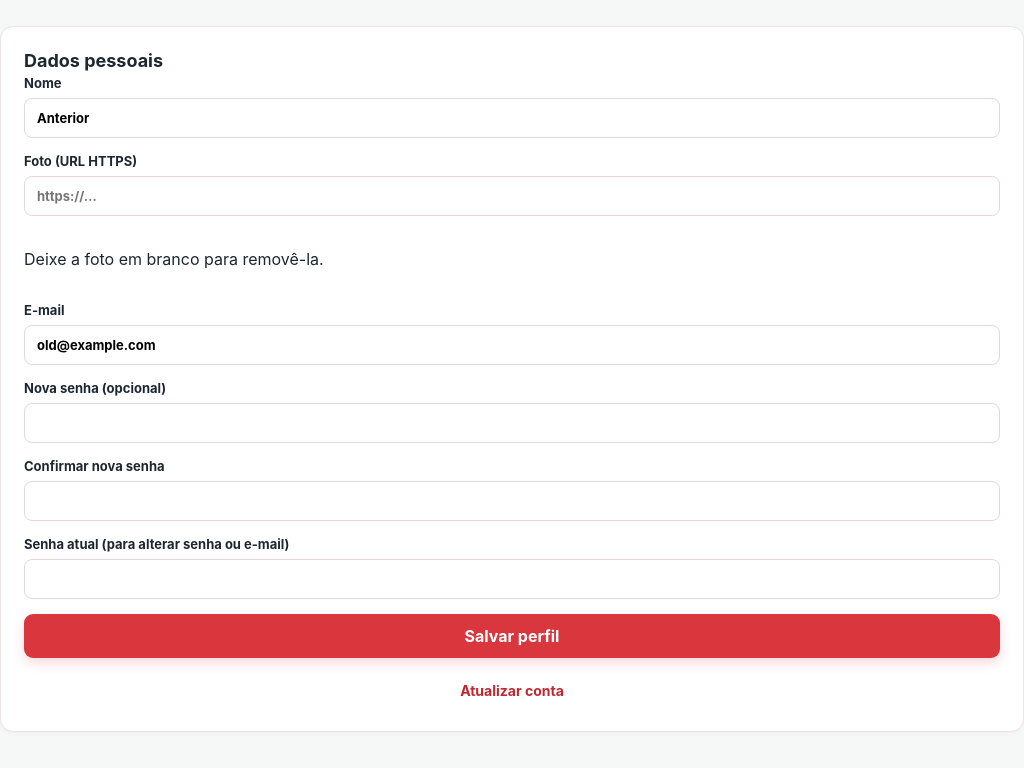
troca o e-mail através de confirmação e reautenticação sem salvar o endereço pendente no banco
Replace the text in the field labelled "E-mail" with "new@example.com" at (512, 345), box [24,325,1000,365]
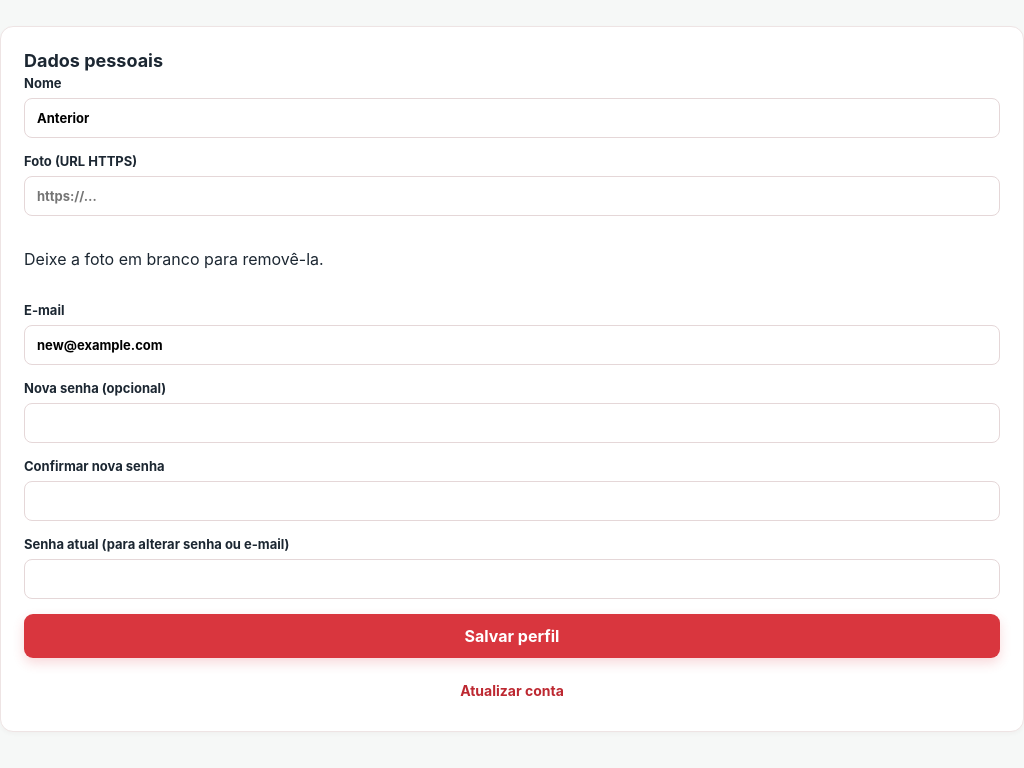
Type "password123" into the password field labelled "Senha atual (para alterar senha ou e-mail)" at (512, 579), box [24,559,1000,599]
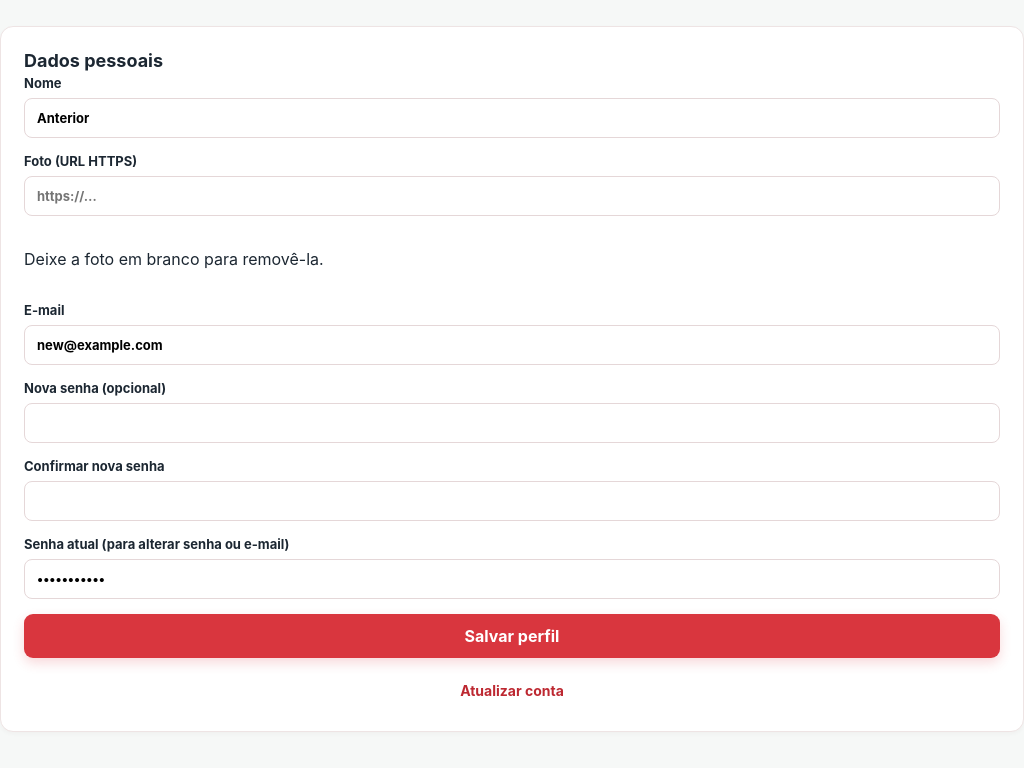
Click the button "Salvar perfil" at (512, 636), box [24,614,1000,658]
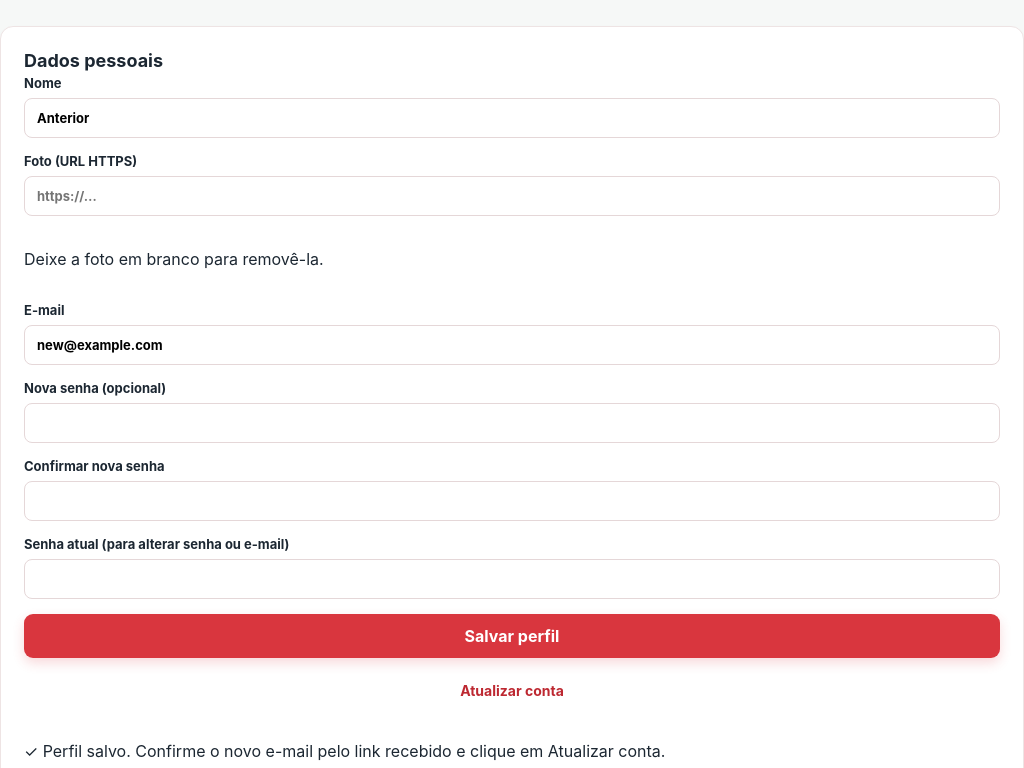
expect the message shows "Confirme o novo e-mail": met, box [24,741,666,761]
